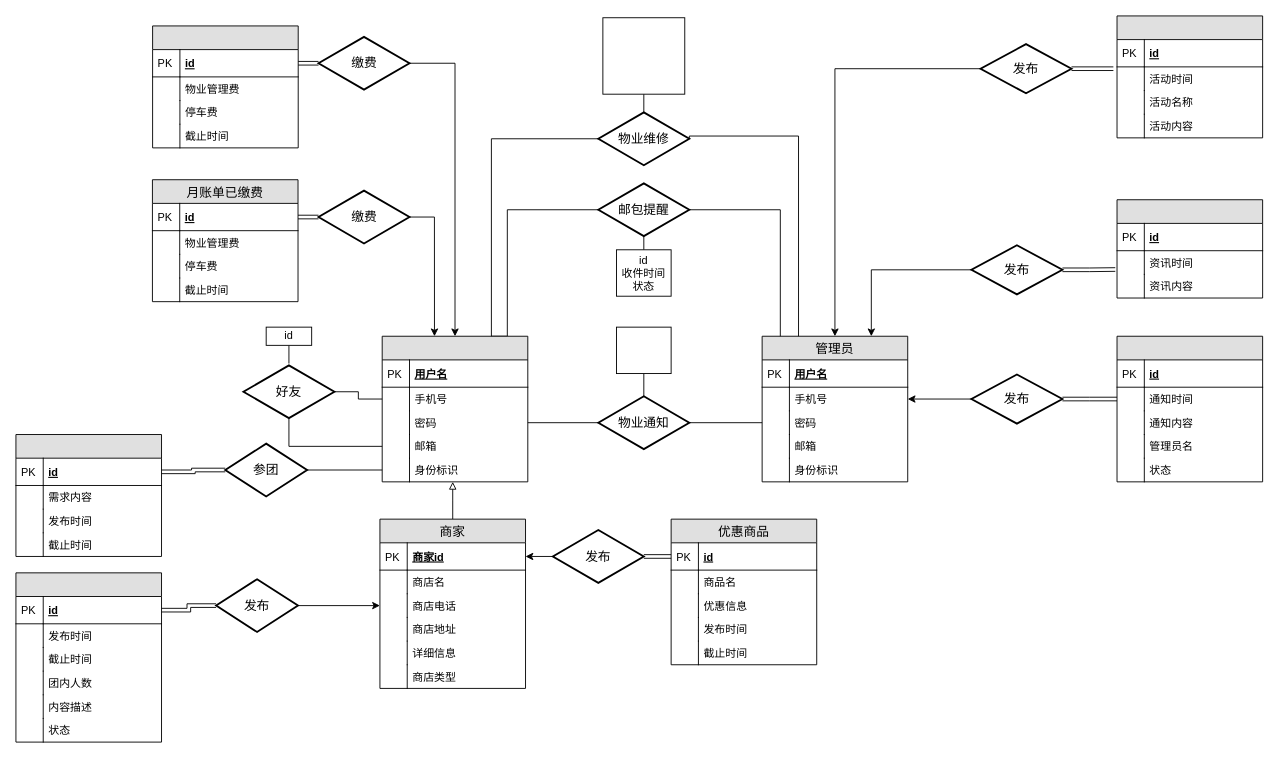
Some shapes in this 1279 by 761 pixel diagram are drawn without their labels. The box of each missing label's shape, as (x1, y1, x2, y2) in pixels:
id 报修时间 报修内容 维修人员名字 维修人员电话 状态: (602, 17, 685, 94)
id 通知时间 通知内容: (616, 326, 671, 374)
团购优惠信息: (15, 572, 162, 742)
团购需求: (15, 434, 162, 556)
最新资讯: (1116, 199, 1263, 298)
月账单未缴费: (152, 25, 298, 148)
活动安排: (1116, 15, 1263, 138)
用户: (381, 335, 528, 482)
紧急通知: (1116, 335, 1263, 482)
